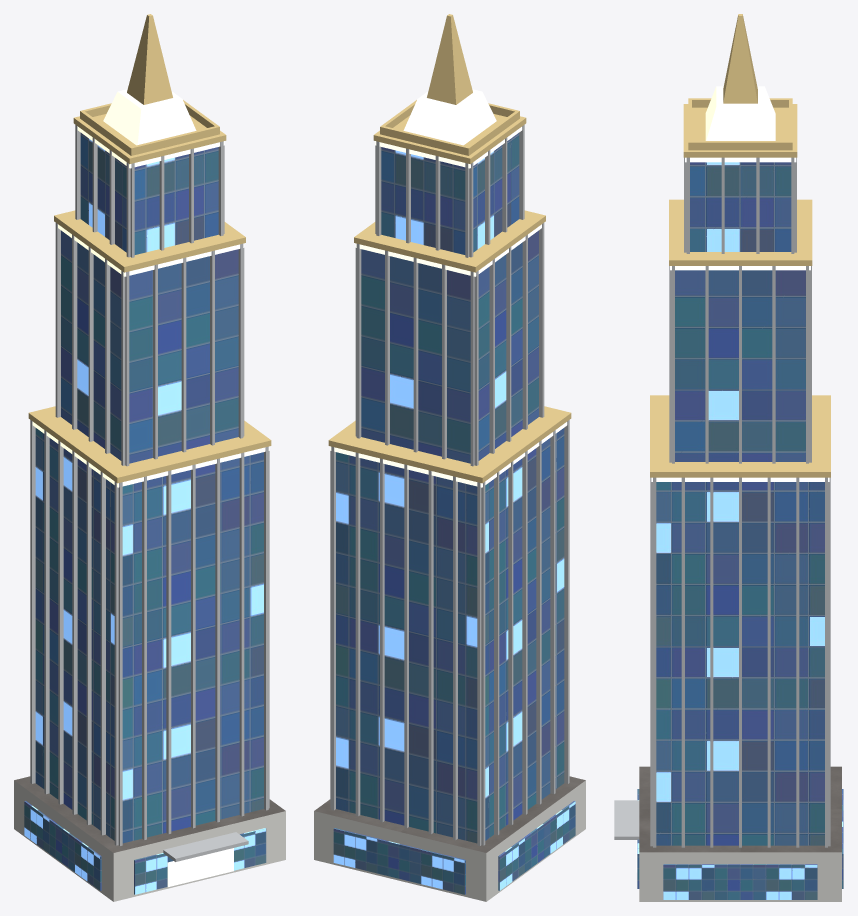
File: financial_tower_crown.glb
3 renders of one model, left to right at view 1: azimuth 30°, elevation 25°; view 2: azimuth 150°, elevation 25°; view 3: azimuth 270°, elevation 25°, orthographic.
Visible parts, largest first — view 1: financial_tower_crown__facade_glass, financial_tower_crown__steel, financial_tower_crown__gold, financial_tower_crown__white, financial_tower_crown__trim_glow, financial_tower_crown__roof, financial_tower_crown__window_glow; view 2: financial_tower_crown__facade_glass, financial_tower_crown__steel, financial_tower_crown__gold, financial_tower_crown__white, financial_tower_crown__trim_glow, financial_tower_crown__roof; view 3: financial_tower_crown__facade_glass, financial_tower_crown__steel, financial_tower_crown__gold, financial_tower_crown__trim_glow, financial_tower_crown__white, financial_tower_crown__roof.
Part boxes in pixels (x1=…): financial_tower_crown__facade_glass: x1=24, y1=133, x2=266, y2=894; financial_tower_crown__steel: x1=30, y1=125, x2=269, y2=861; financial_tower_crown__gold: x1=28, y1=14, x2=271, y2=483; financial_tower_crown__white: x1=14, y1=780, x2=285, y2=901; financial_tower_crown__trim_glow: x1=32, y1=89, x2=269, y2=487; financial_tower_crown__roof: x1=14, y1=776, x2=285, y2=852; financial_tower_crown__window_glow: x1=167, y1=848, x2=233, y2=886; financial_tower_crown__facade_glass: x1=333, y1=133, x2=575, y2=894; financial_tower_crown__steel: x1=330, y1=125, x2=569, y2=845; financial_tower_crown__gold: x1=328, y1=14, x2=571, y2=483; financial_tower_crown__white: x1=314, y1=780, x2=585, y2=901; financial_tower_crown__trim_glow: x1=330, y1=89, x2=567, y2=487; financial_tower_crown__roof: x1=314, y1=776, x2=585, y2=852; financial_tower_crown__facade_glass: x1=637, y1=162, x2=843, y2=899; financial_tower_crown__steel: x1=614, y1=157, x2=830, y2=847; financial_tower_crown__gold: x1=650, y1=14, x2=830, y2=477; financial_tower_crown__trim_glow: x1=651, y1=86, x2=829, y2=481; financial_tower_crown__white: x1=639, y1=852, x2=841, y2=901; financial_tower_crown__roof: x1=639, y1=766, x2=841, y2=852.
Size of the model in its own units: 0.661 by 2.98 by 0.735.
7 materials, 2 textured.
